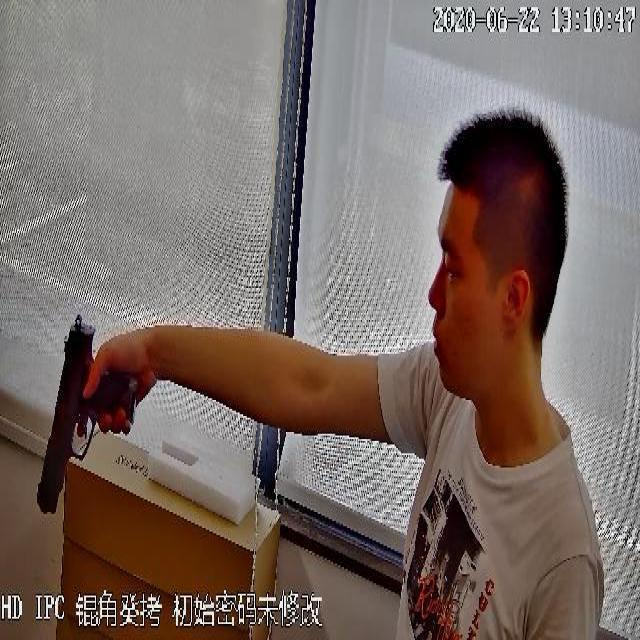pistol: (32, 316, 138, 518)
